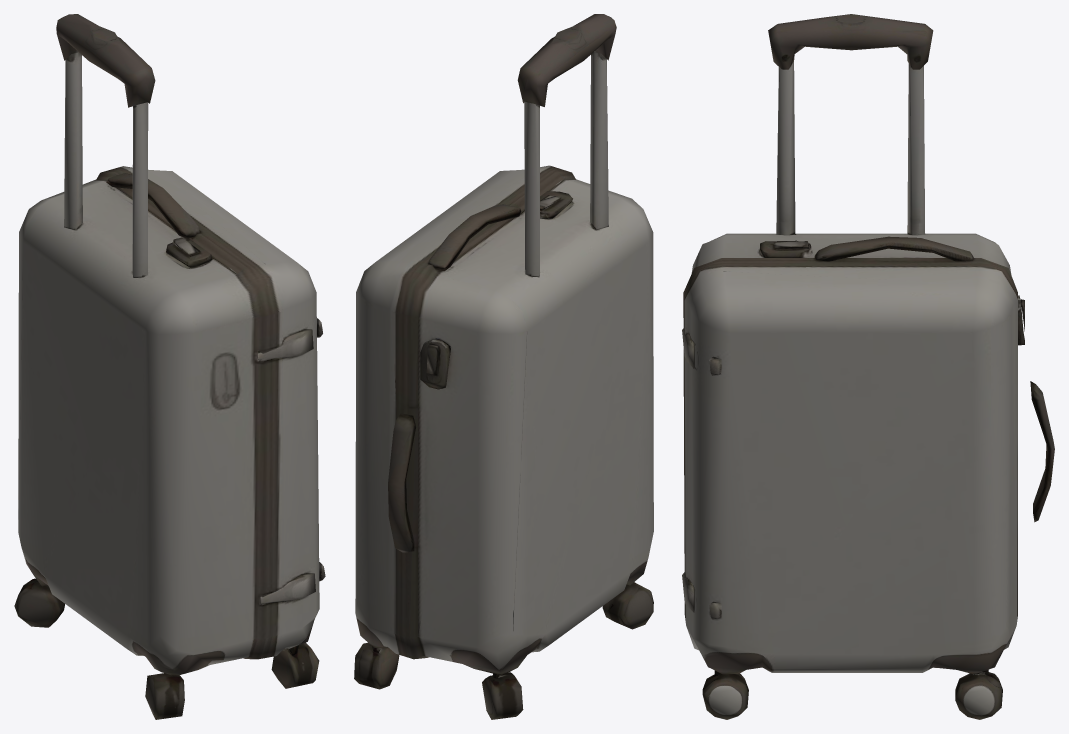
Rendered from suitcase.glb.
3 renders of one model, left to right at view 1: azimuth 30°, elevation 25°; view 2: azimuth 150°, elevation 25°; view 3: azimuth 270°, elevation 25°, orthographic.
Parts seen in each view (by area): view 1: tripo_node_1cf7d313-ccff-452c-a6be-13e9646db2c3; view 2: tripo_node_1cf7d313-ccff-452c-a6be-13e9646db2c3; view 3: tripo_node_1cf7d313-ccff-452c-a6be-13e9646db2c3.
Boxes of the visible parts, <box> form: tripo_node_1cf7d313-ccff-452c-a6be-13e9646db2c3: <box>14,14,325,719</box>; tripo_node_1cf7d313-ccff-452c-a6be-13e9646db2c3: <box>354,14,653,719</box>; tripo_node_1cf7d313-ccff-452c-a6be-13e9646db2c3: <box>682,14,1054,719</box>.
Size of the model in its own units: 0.2832 by 0.998 by 0.5332.
1 material, 1 textured.
